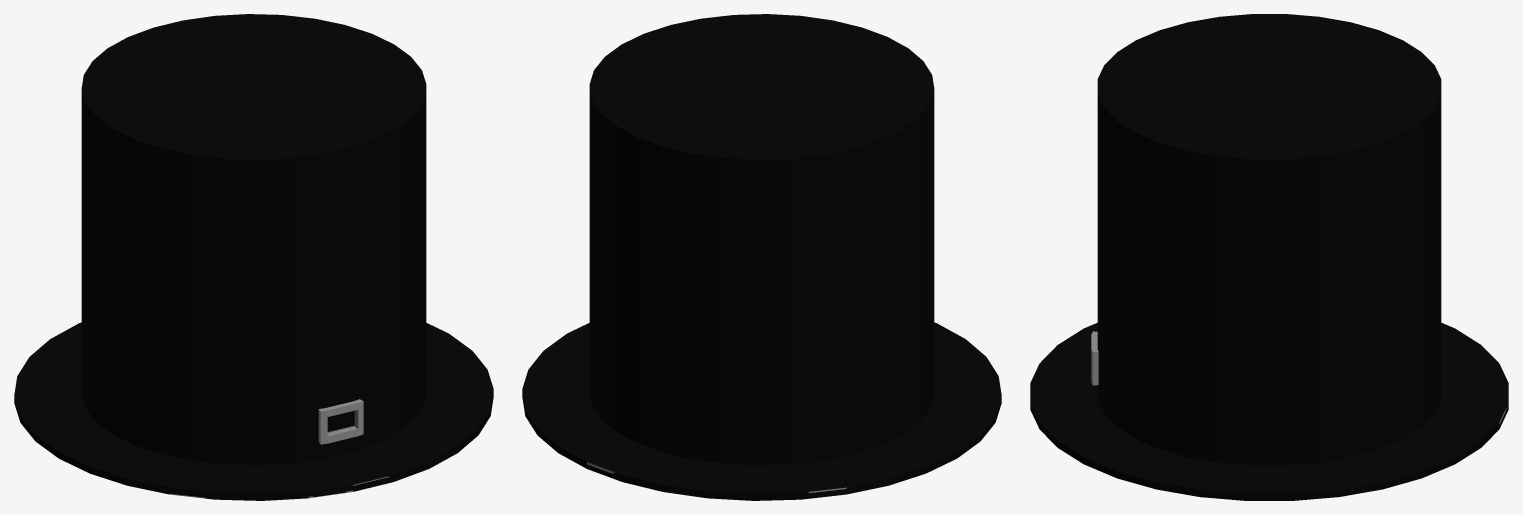
The model's file is models.glb.
3 views of the same model, side by side, from view 1: azimuth 30°, elevation 25°; view 2: azimuth 150°, elevation 25°; view 3: azimuth 270°, elevation 25° (orthographic).
Visible parts, largest first — view 1: Cylinder; view 2: Cylinder; view 3: Cylinder.
Boxes of the visible parts, bbox=[...] form: Cylinder: bbox=[14, 14, 493, 500]; Cylinder: bbox=[522, 14, 1001, 500]; Cylinder: bbox=[1030, 14, 1508, 500].
Size of the model in its own units: 2.77 by 2 by 2.77.
Materials: 1 (1 with a texture image).
